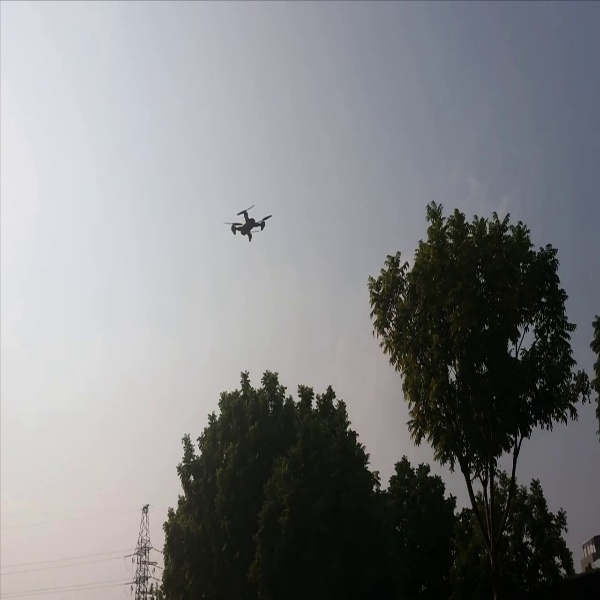drone: (217, 192, 282, 246)
